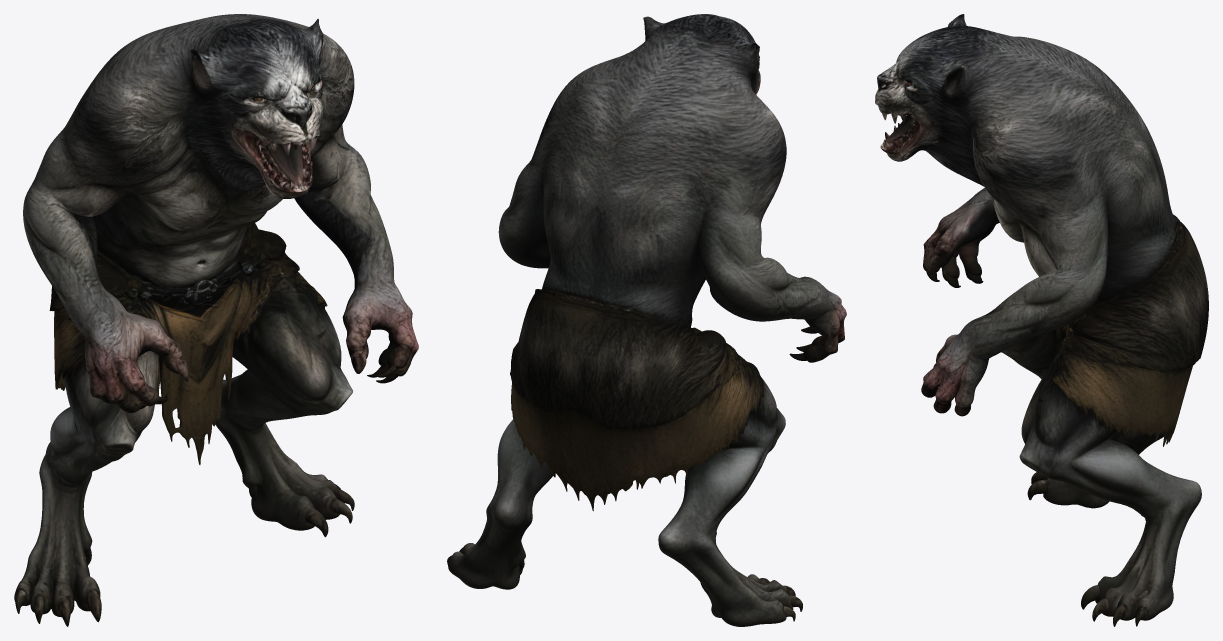
File: troll.glb
3 views of the same model, side by side, from view 1: azimuth 30°, elevation 25°; view 2: azimuth 150°, elevation 25°; view 3: azimuth 270°, elevation 25° (orthographic). The views are drawn at different scales.
Visible parts, largest first — view 1: material; view 2: material; view 3: material.
Boxes of the visible parts, x1,y1,x2,y2 form: material: [14, 14, 418, 626]; material: [447, 14, 846, 626]; material: [875, 14, 1208, 626].
Size of the model in its own units: 0.6231 by 0.9835 by 0.5753.
Materials: 1 (1 with a texture image).
